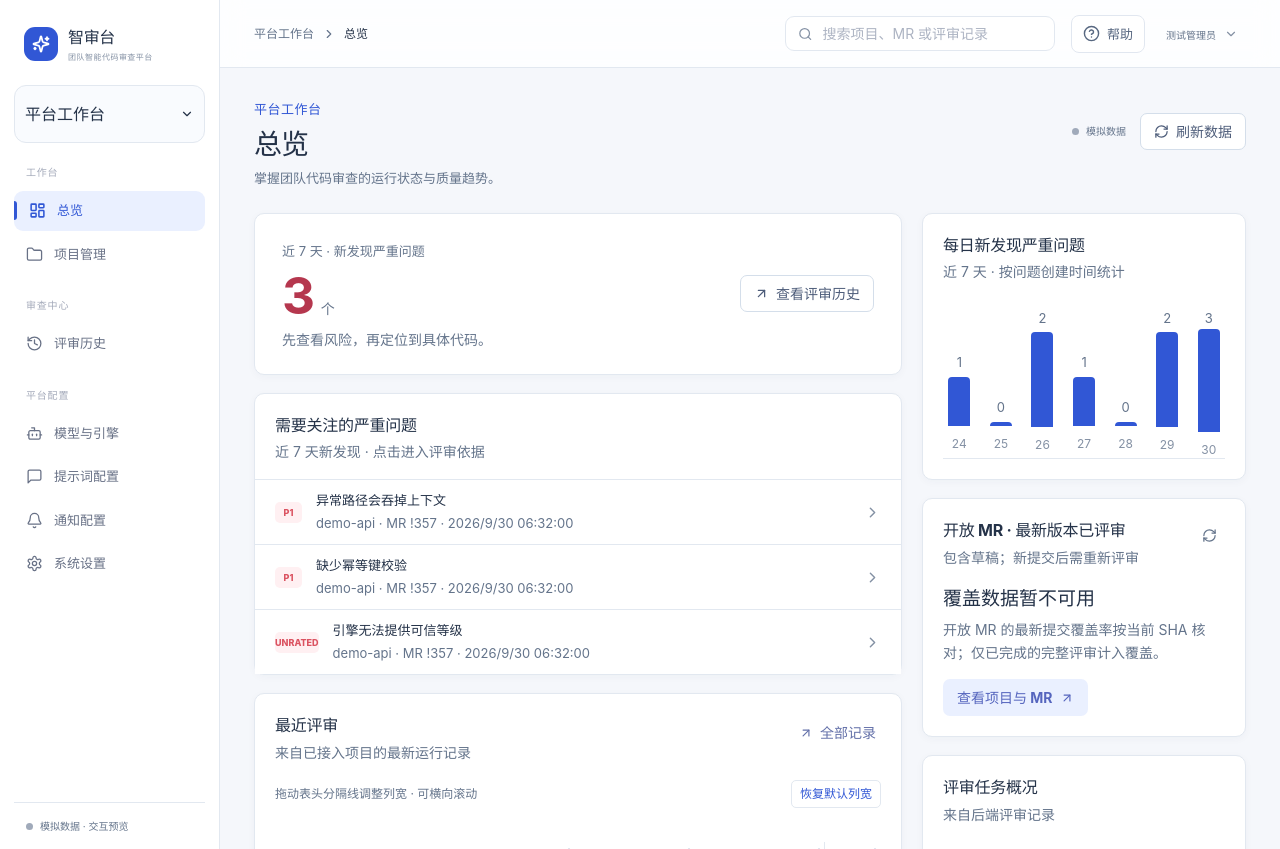
Test: dismisses a project row menu without navigating to the row
The image size is (1280, 849).
Step 1. Click the button "项目管理" → (110,254), box [14,234,205,274]
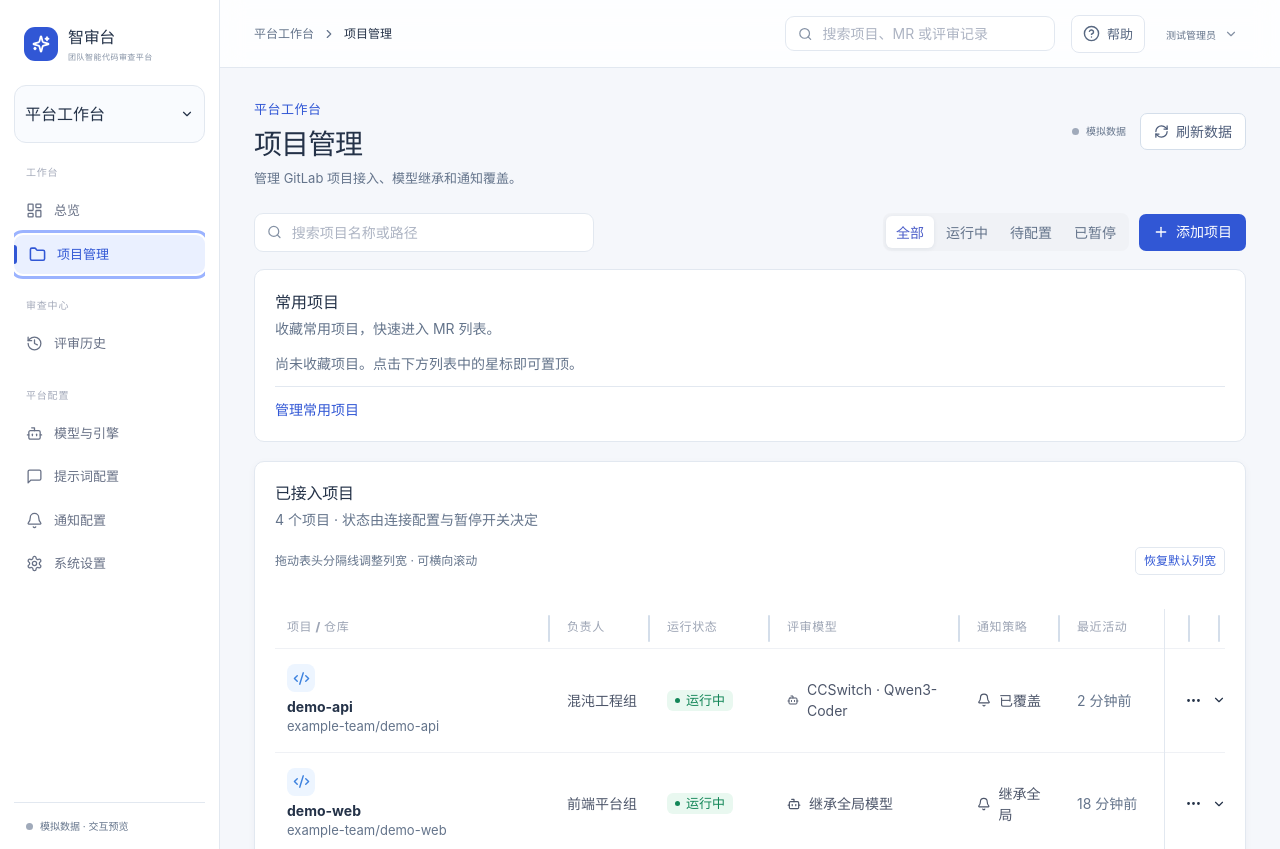
Step 2. Click the button named "demo-api 更多操作" → (1206,700), box [1177,684,1234,717]
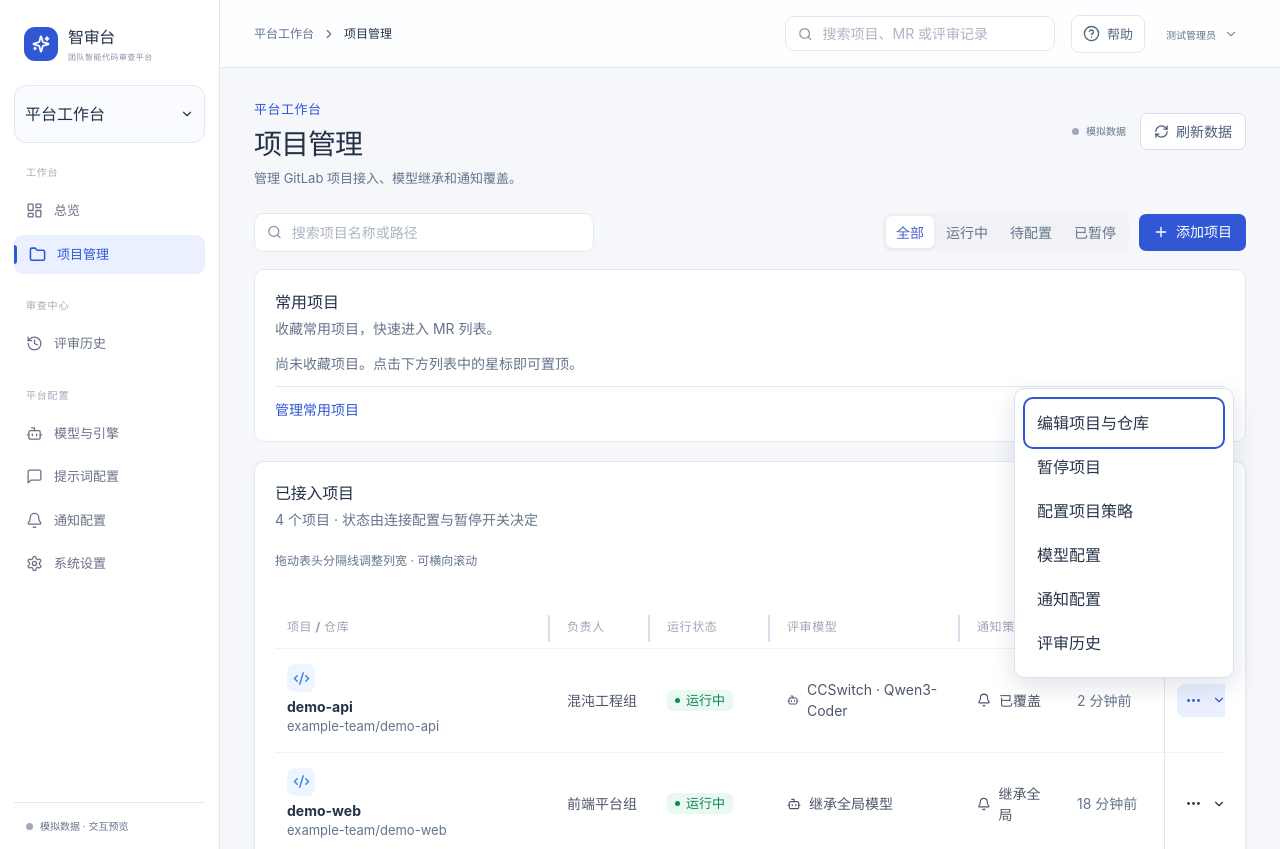
Check: the button "配置项目策略" is shown, box [1027,489,1221,533]
Step 3. Click the heading "项目管理" → (308,144), box [254,126,362,160]
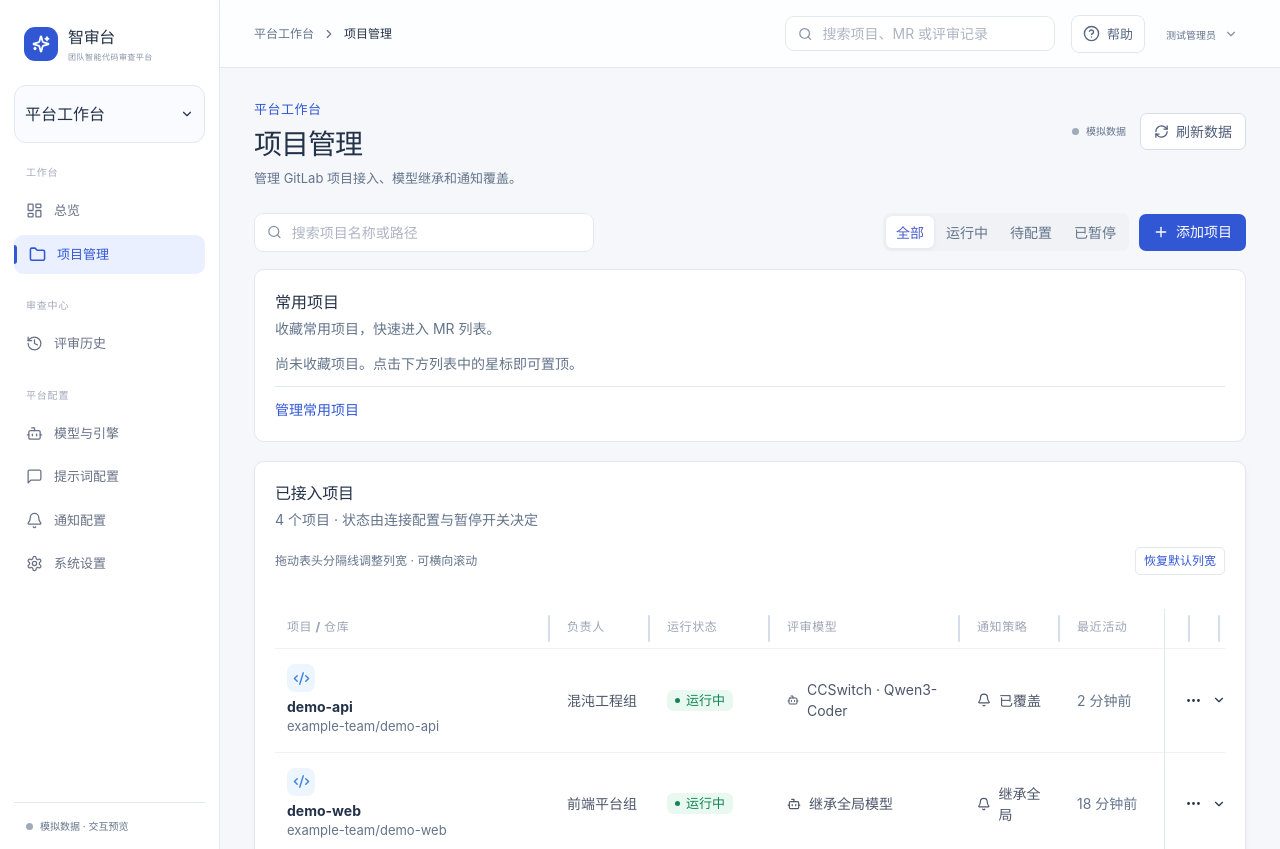
Check: the heading "项目管理" is shown, box [254,126,362,160]
Check: the button "配置项目策略" is gone
